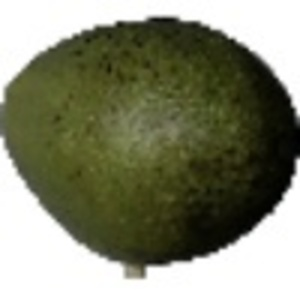abacate: (1, 9, 299, 270)
